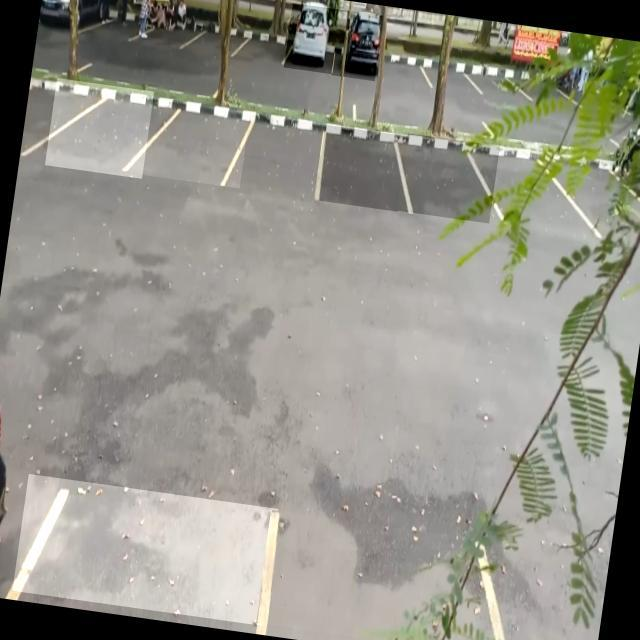empty: (13, 483, 278, 619), (263, 514, 499, 640), (130, 96, 250, 188), (45, 78, 154, 179), (223, 112, 331, 204), (397, 134, 500, 224), (314, 125, 408, 212)
occupied: (284, 4, 342, 74), (332, 10, 384, 81)
